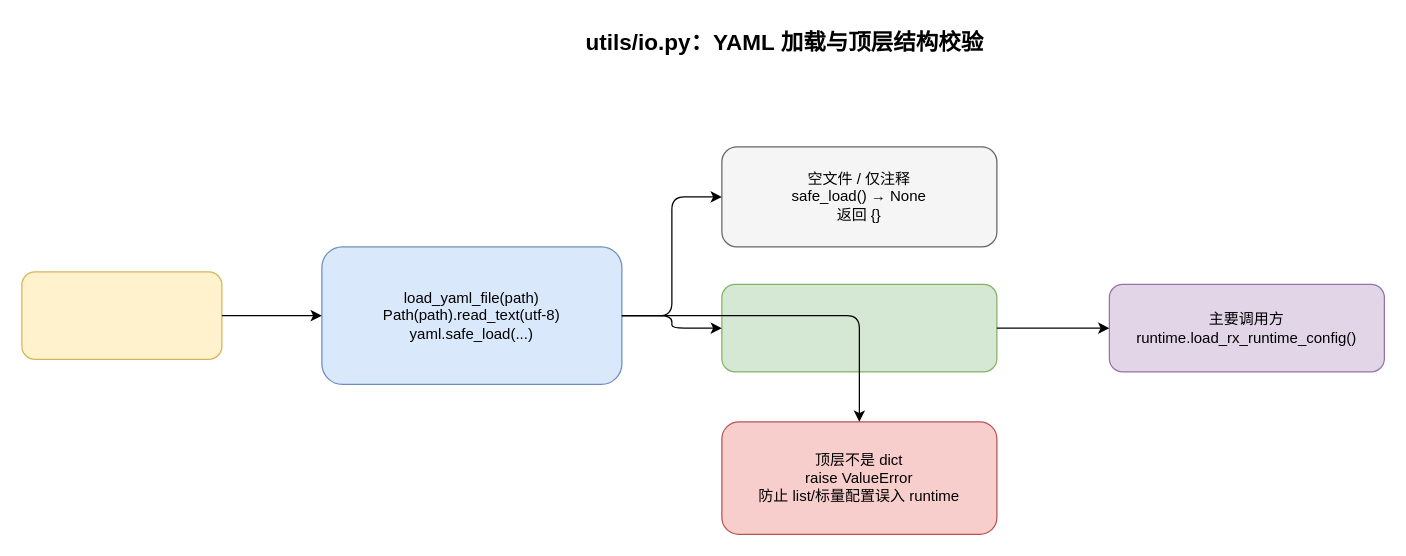
Image size: 1406x556. Some labels were removed from this diagram. The box of each missing label's shape, as (x1, y1, x2, y2) in pixels:
输入 path: str | Path: (21, 271, 222, 359)
顶层为 dict 返回 dict[str, Any]: (721, 283, 997, 372)
